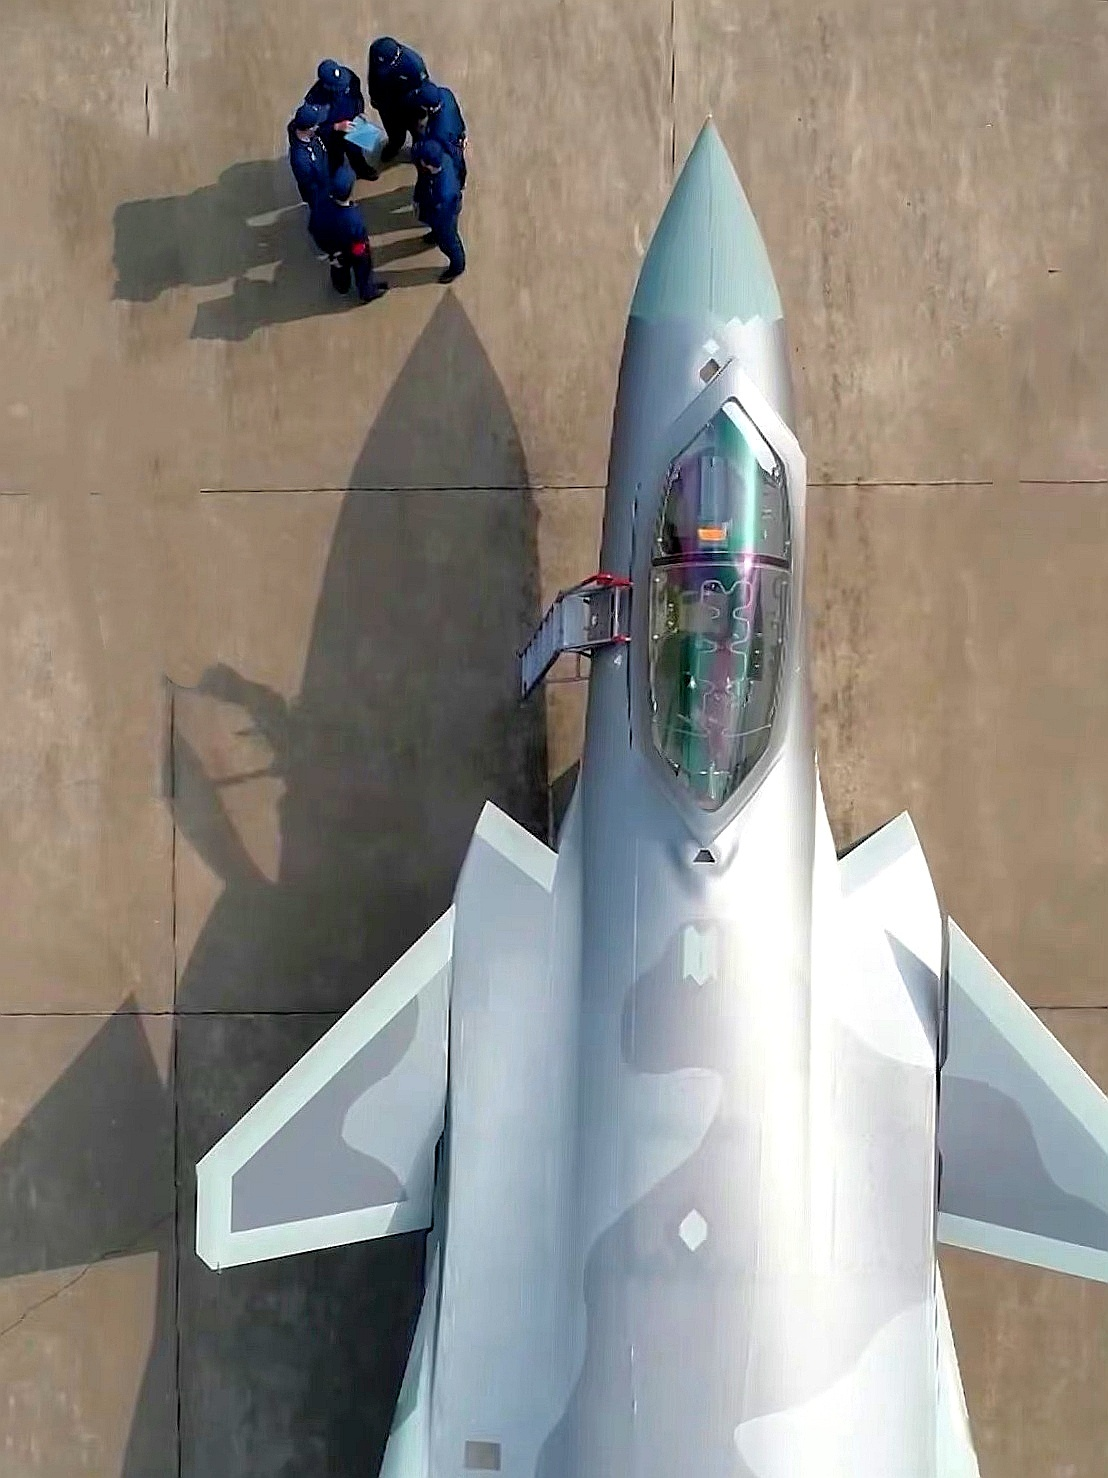J20: (196, 112, 1108, 1478)
